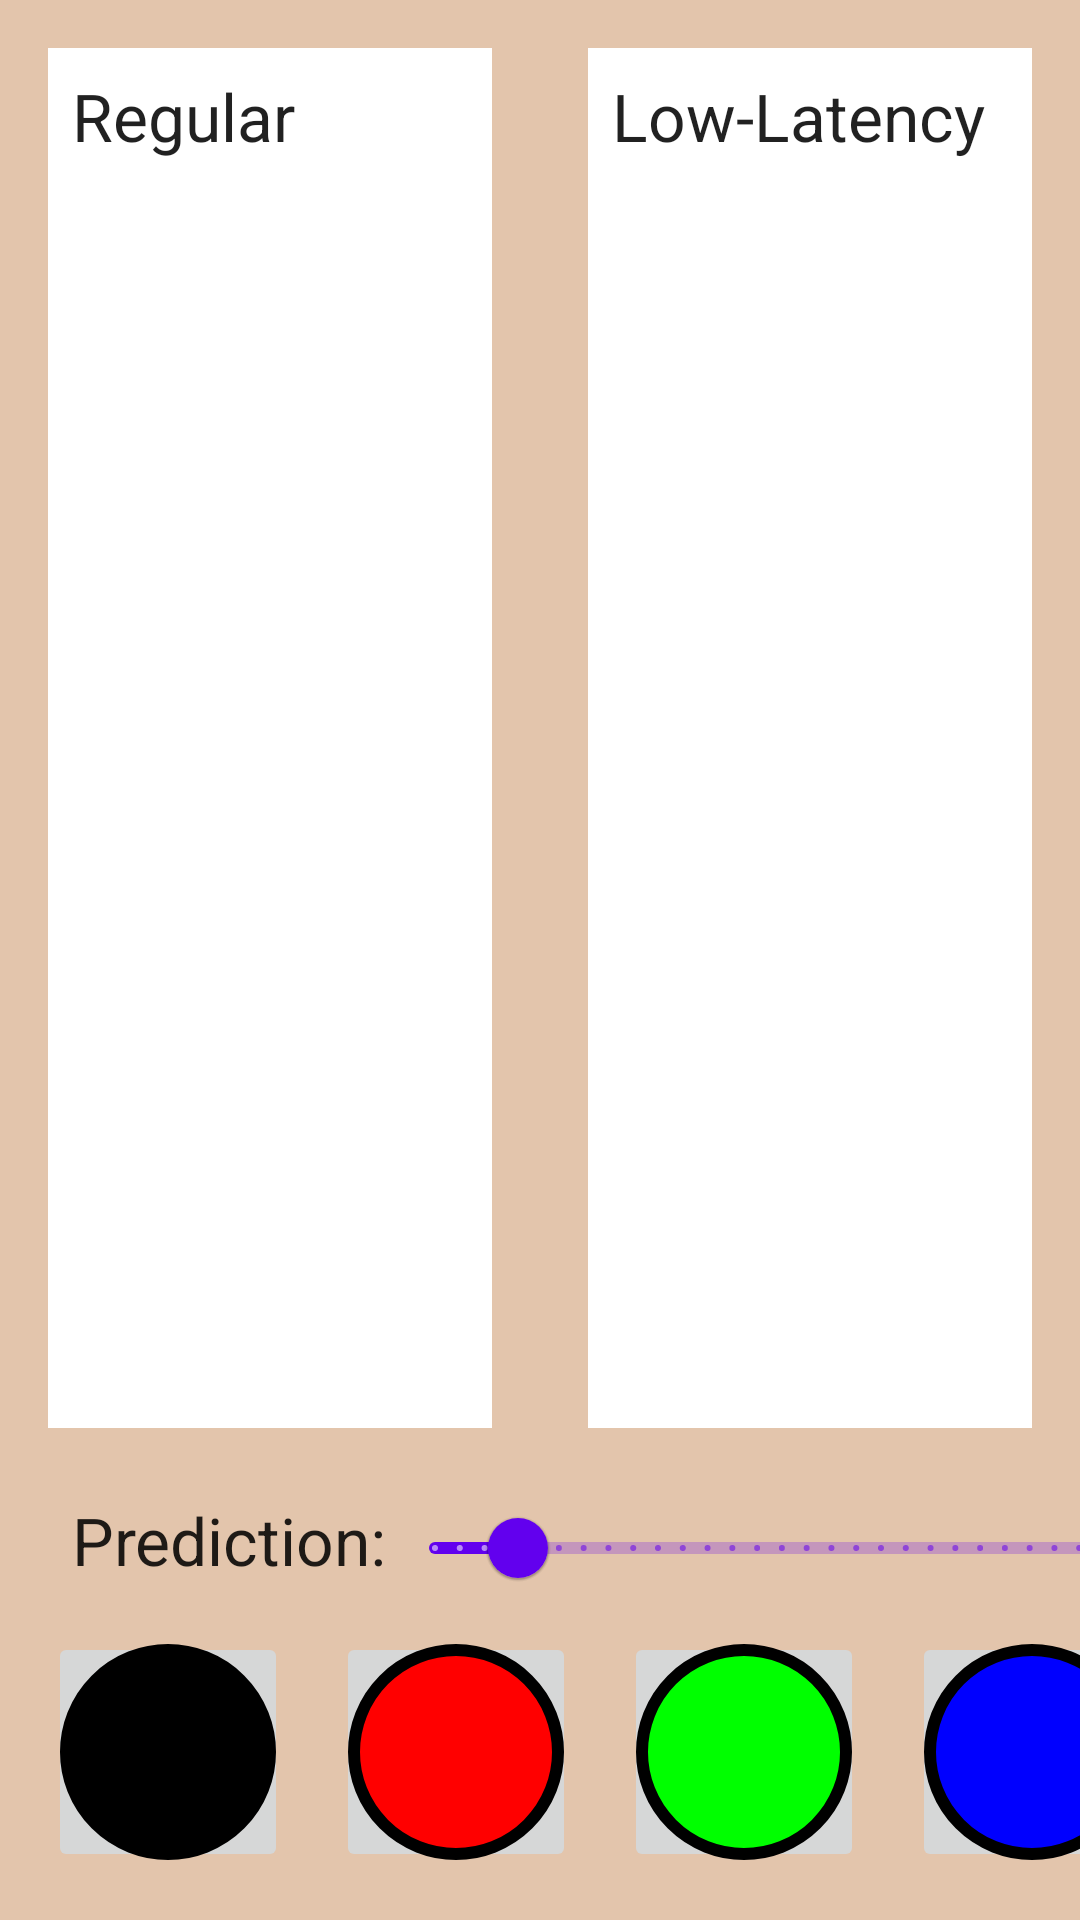

Where to tap for icons on this 1080px×1920px app screen, as point (x, y):
Black paint color: point (168, 1752)
Green paint color: point (744, 1752)
Red paint color: point (456, 1752)
